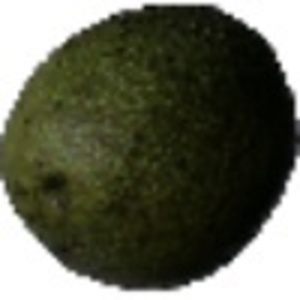abacate: (5, 3, 298, 296)
